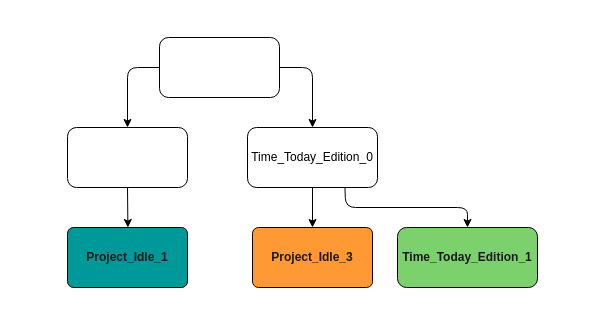
The diagram is 604 pixels wide and 334 high, and some of its shapes have lost their labels. The shapes that lost their labels are listed below. From the top down, each one's box as (x1, y1, x2, y2) in pixels, then its label:
(158, 36, 280, 98): Project_Idle_0
(66, 126, 188, 188): Project_Playing_0
